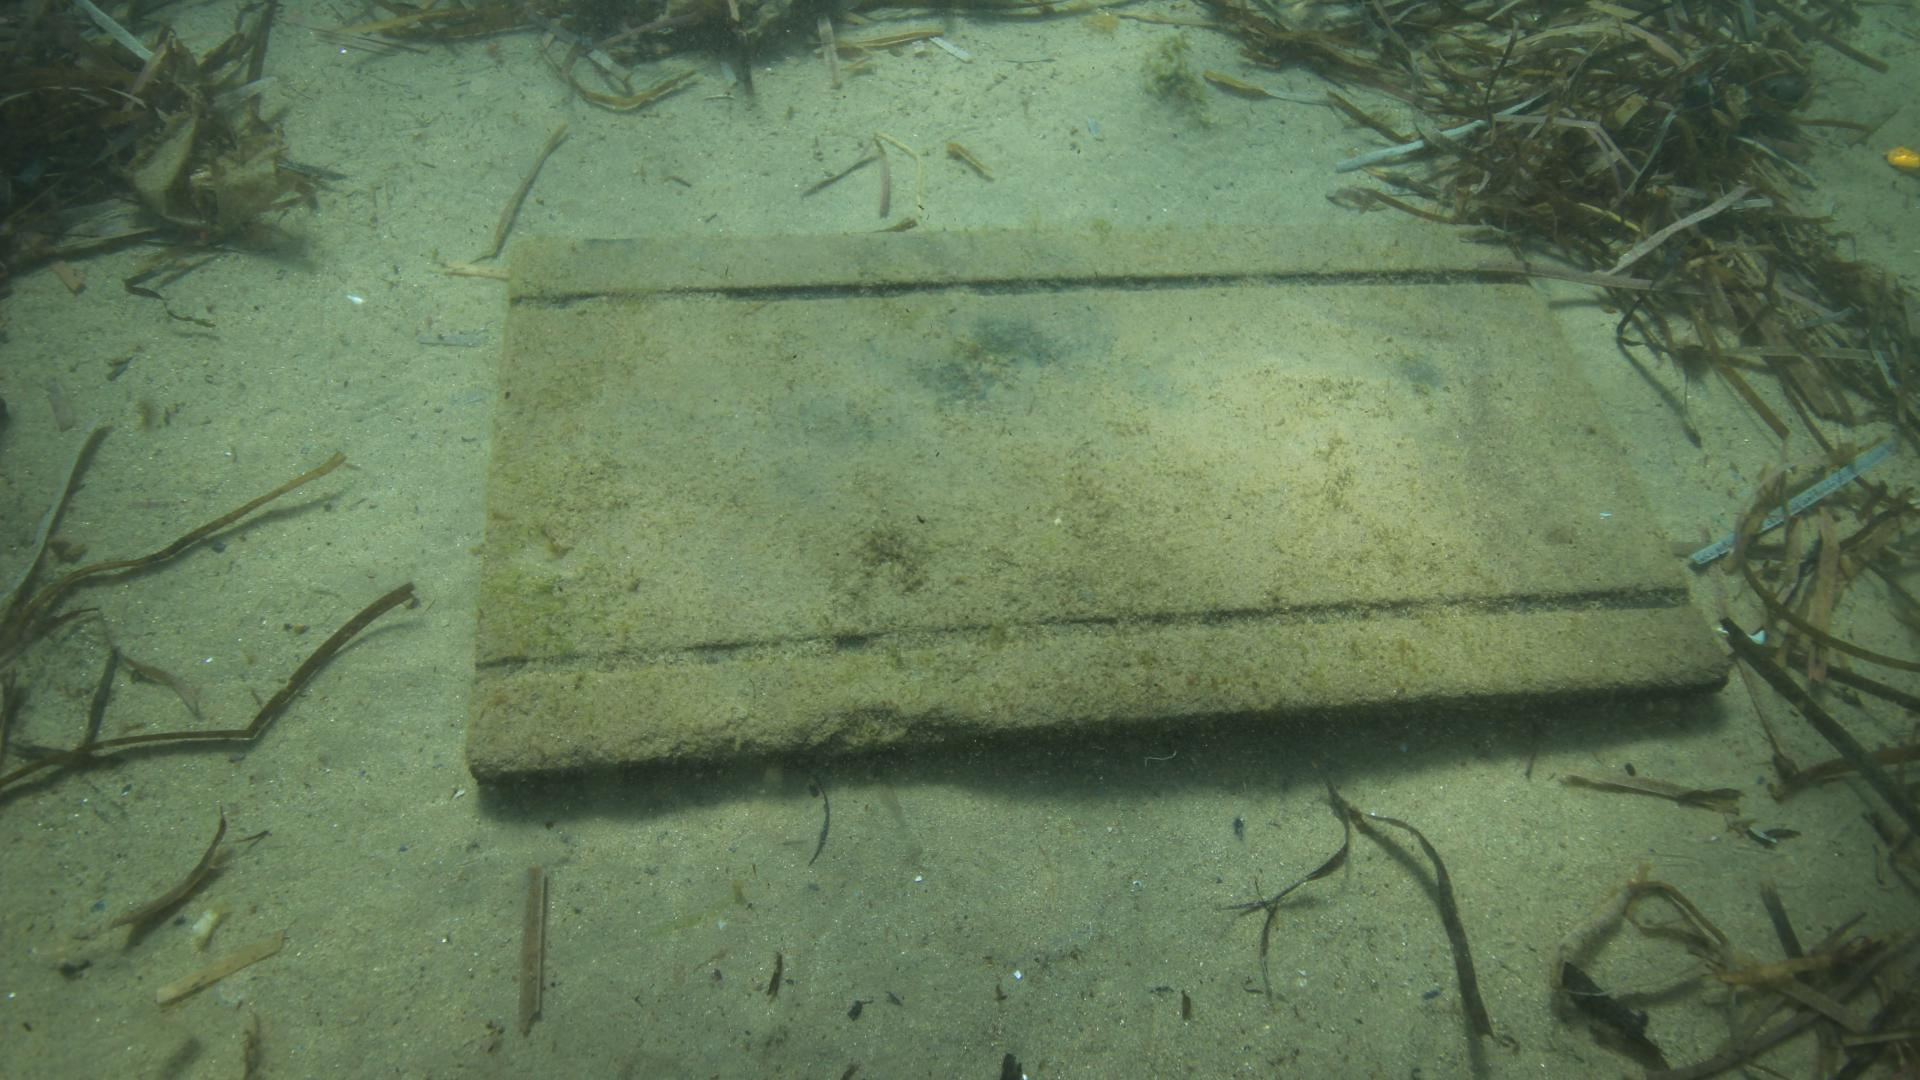wood: (465, 219, 1733, 783)
